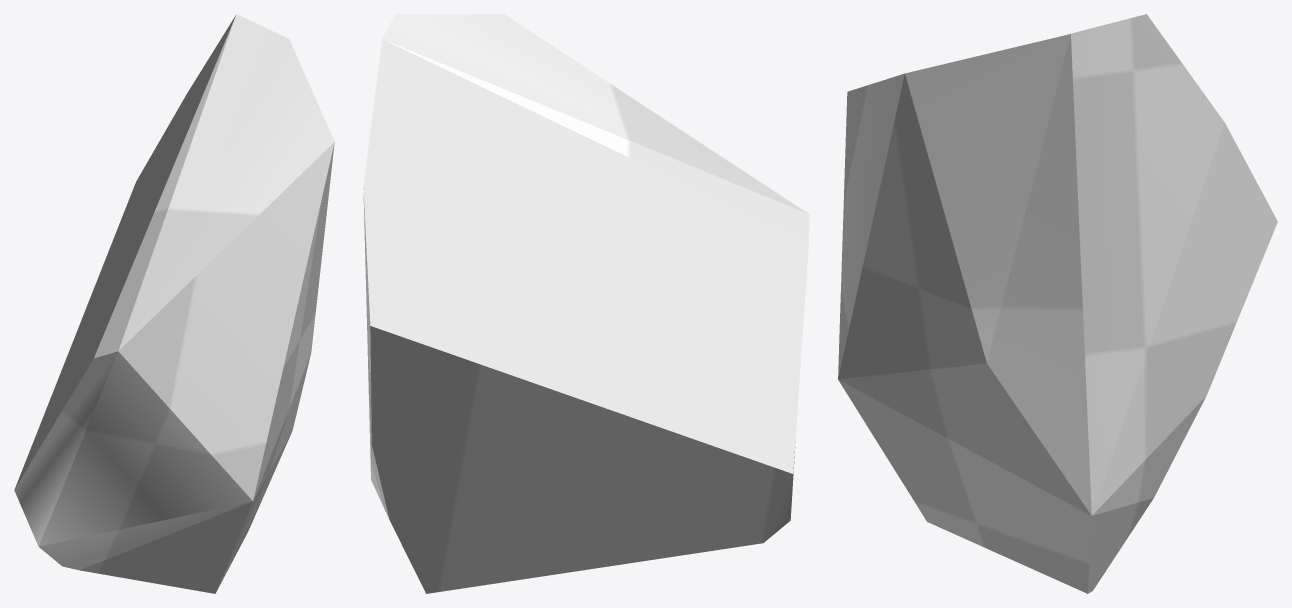
File: Project03.glb
3 renders of one model, left to right at view 1: azimuth 30°, elevation 25°; view 2: azimuth 150°, elevation 25°; view 3: azimuth 270°, elevation 25°, orthographic. The views are drawn at different scales.
Visible parts, largest first — view 1: project03; view 2: project03; view 3: project03.
Boxes of the visible parts, bbox=[...] form: project03: bbox=[14, 14, 334, 593]; project03: bbox=[363, 14, 809, 593]; project03: bbox=[838, 14, 1277, 593].
Size of the model in its own units: 1.37 by 2.02 by 1.37.
2 materials, 1 textured.
